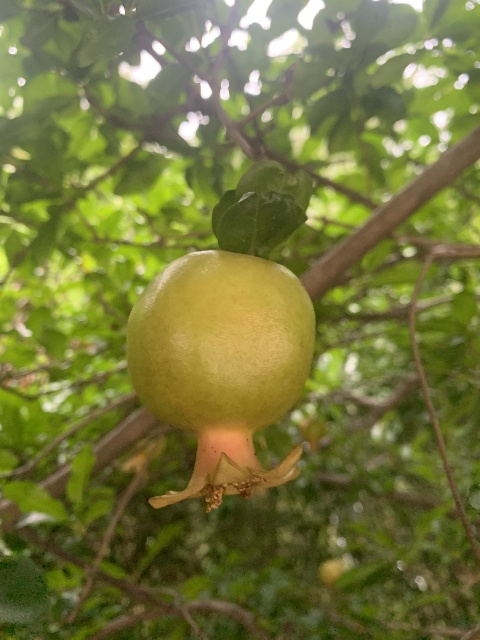mid-growth: (106, 251, 320, 510)
